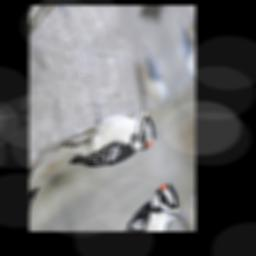Woodpecker: (52, 78, 164, 214)
